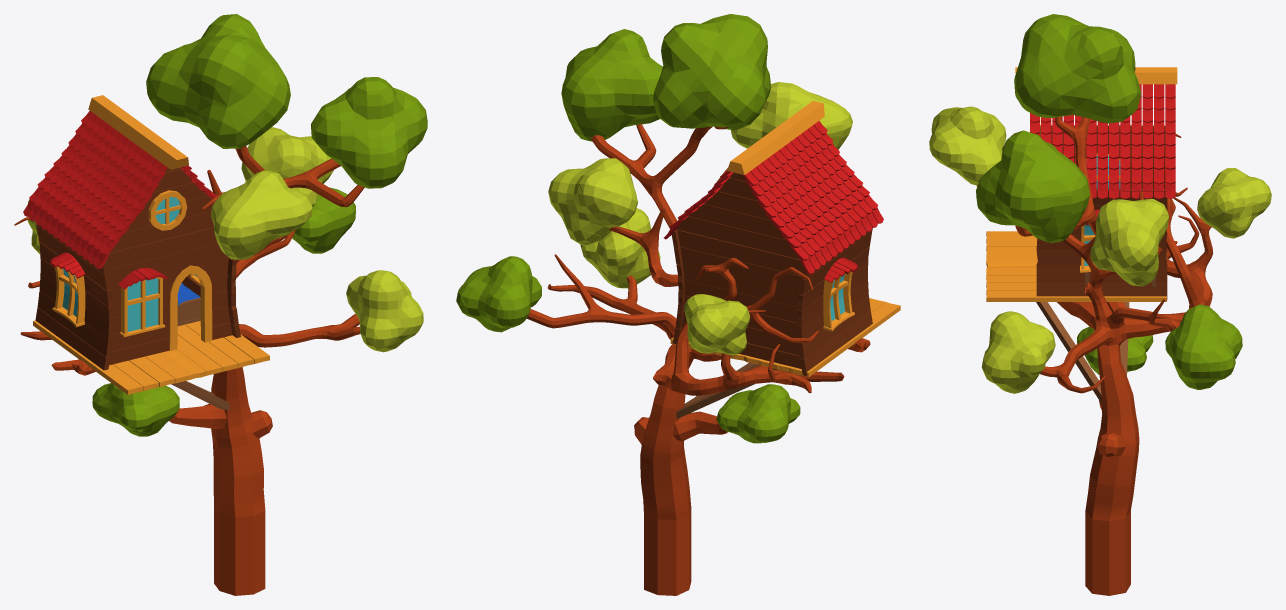
The model's file is Low Poly TreeHouse By EdwinRC.fbx.
The picture shows the model from 3 angles, left to right: view 1: azimuth 30°, elevation 25°; view 2: azimuth 150°, elevation 25°; view 3: azimuth 270°, elevation 25°; orthographic projection. The views are drawn at different scales.
Parts seen in each view (by area): view 1: Plane.008; view 2: Plane.008; view 3: Plane.008.
Boxes of the visible parts, box(x1,y1,x2,y2) form: Plane.008: box(14, 14, 427, 595); Plane.008: box(456, 14, 900, 595); Plane.008: box(929, 14, 1271, 595).
Size of the model in its own units: 29345 by 46298 by 26100.
